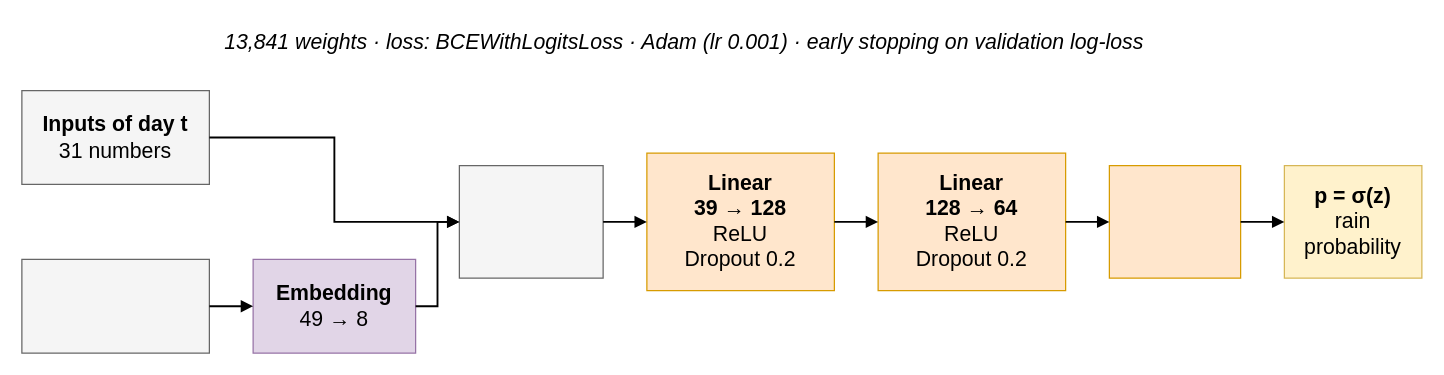
Some shapes in this 1444 by 375 pixel diagram are drawn without their labels. The shapes that lost their labels are listed below. From the top down, each one's centre as x and y in pixels, then its label:
At pixel 530 221: "Concat 31 + 8 = 39".
At pixel 1174 221: "Linear 64 → 1 logit z".
At pixel 115 305: "Station (1 of 49)".
